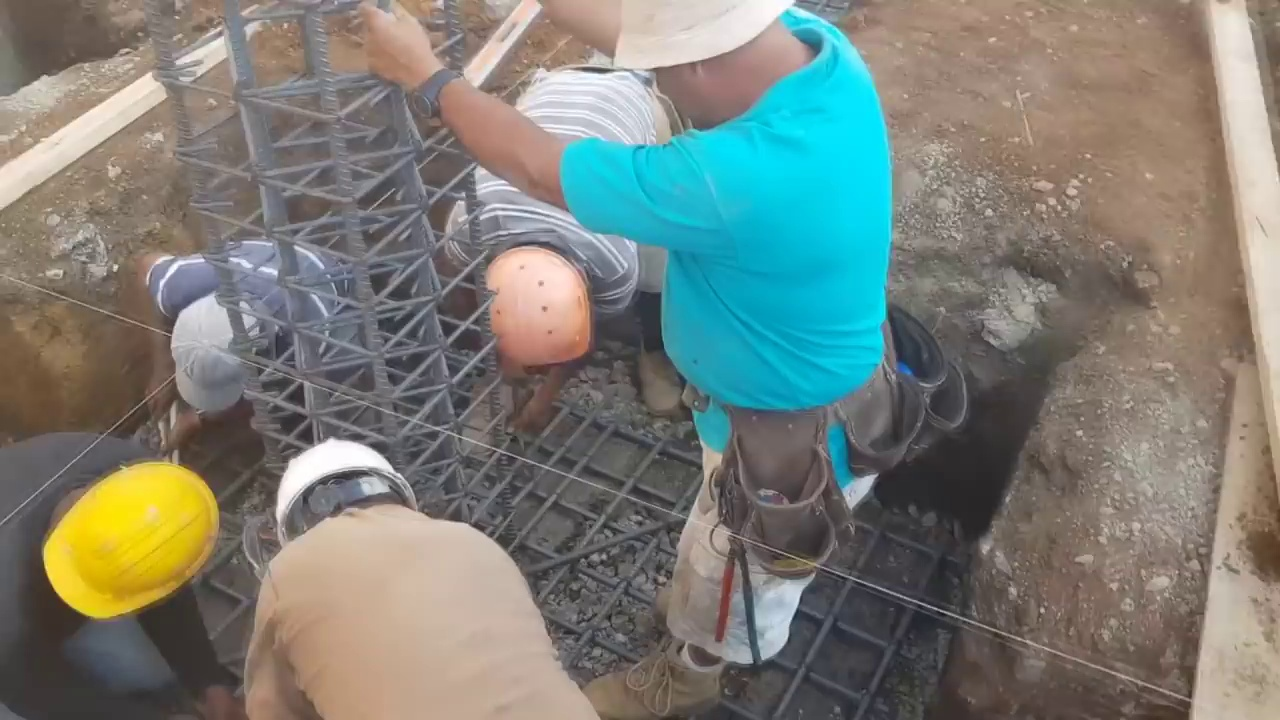helmet: (44, 463, 213, 626), (269, 444, 424, 547), (481, 242, 597, 376)
helmet-off: (604, 1, 832, 138), (166, 285, 268, 419)
helmet-on: (22, 452, 214, 638), (264, 438, 432, 567), (475, 236, 607, 380)
person: (354, 2, 937, 713), (221, 445, 594, 708), (465, 49, 680, 430), (0, 414, 219, 714), (140, 228, 355, 456)
